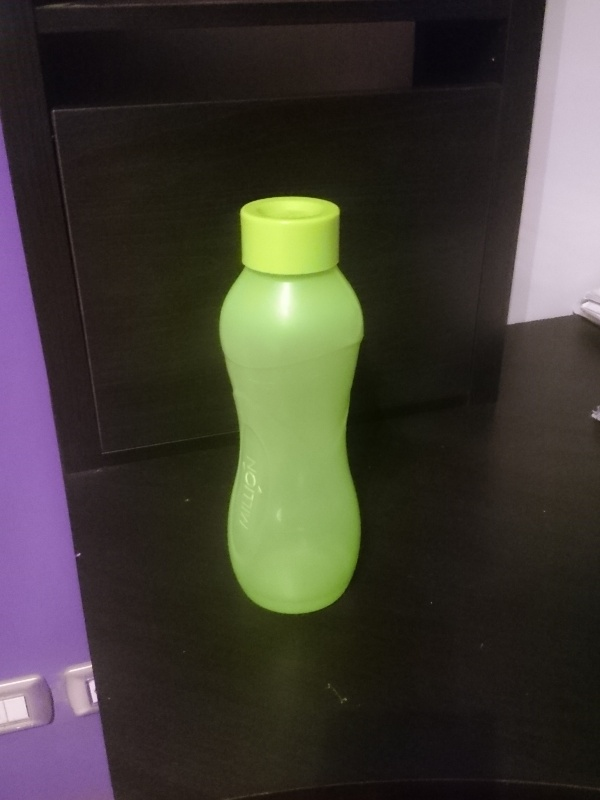my bottle: (214, 198, 362, 615)
